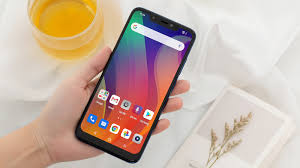vsmart: (65, 3, 195, 164)
